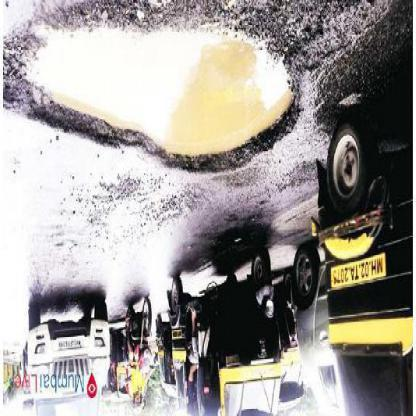pothole: (3, 3, 305, 179)
